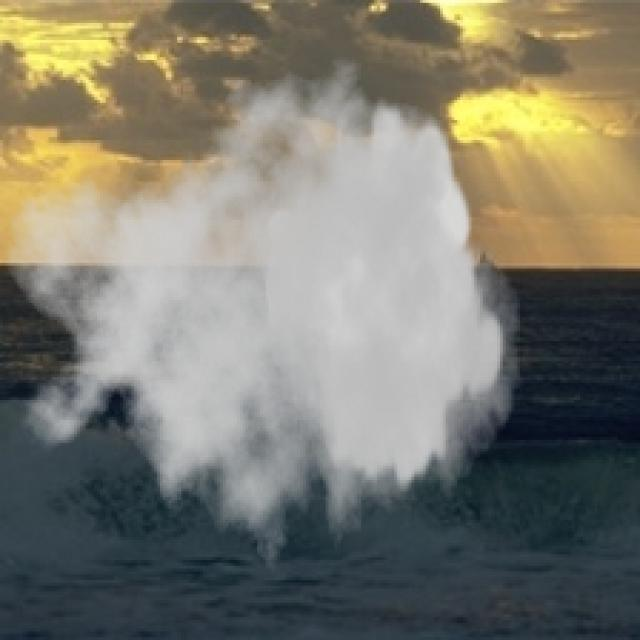Smoke: (3, 48, 523, 594)
